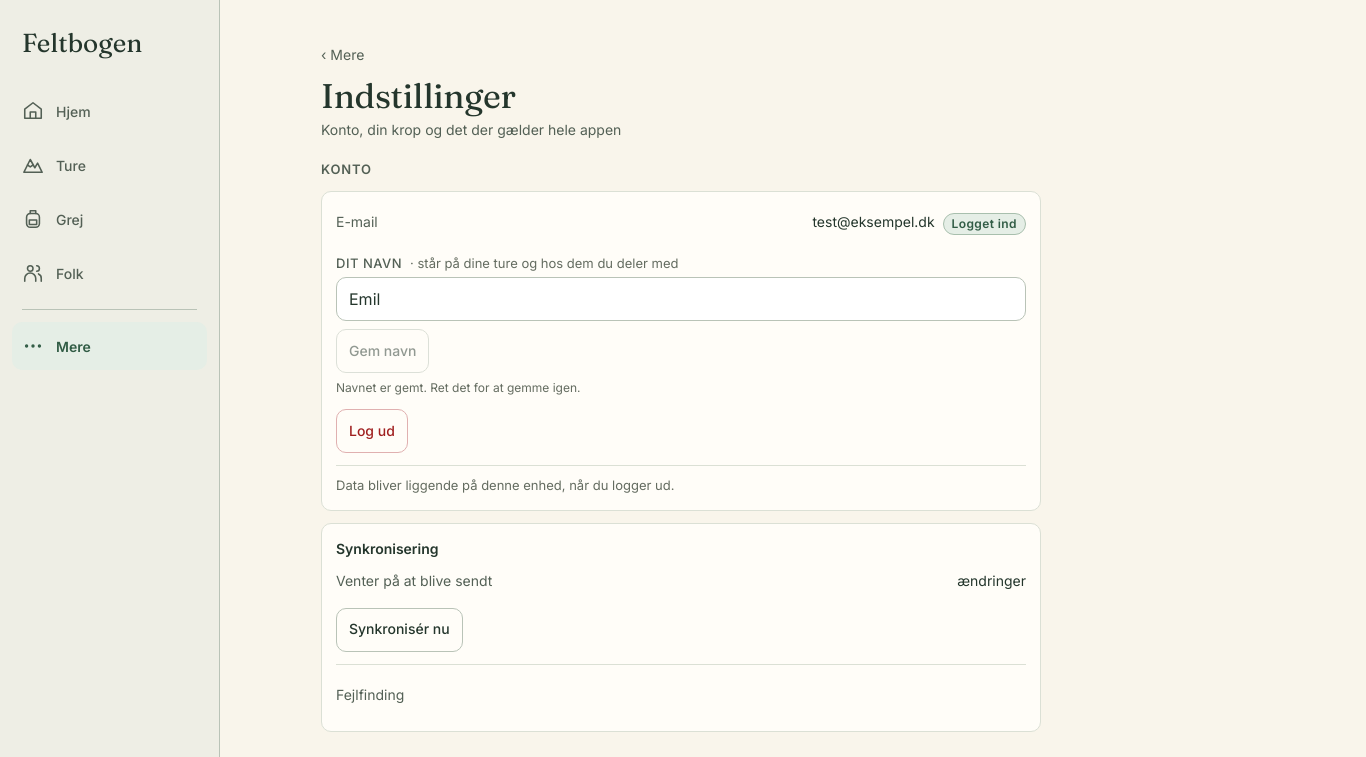
Test: navnet må ikke være tomt › slukker knappen igen, når navnet er sendt op
The width and height of the screenshot is (1366, 757).
Type "sen" into the field labelled "Dit navn· står på dine ture og hos dem du deler med" at [681, 299], box [336, 277, 1026, 321]
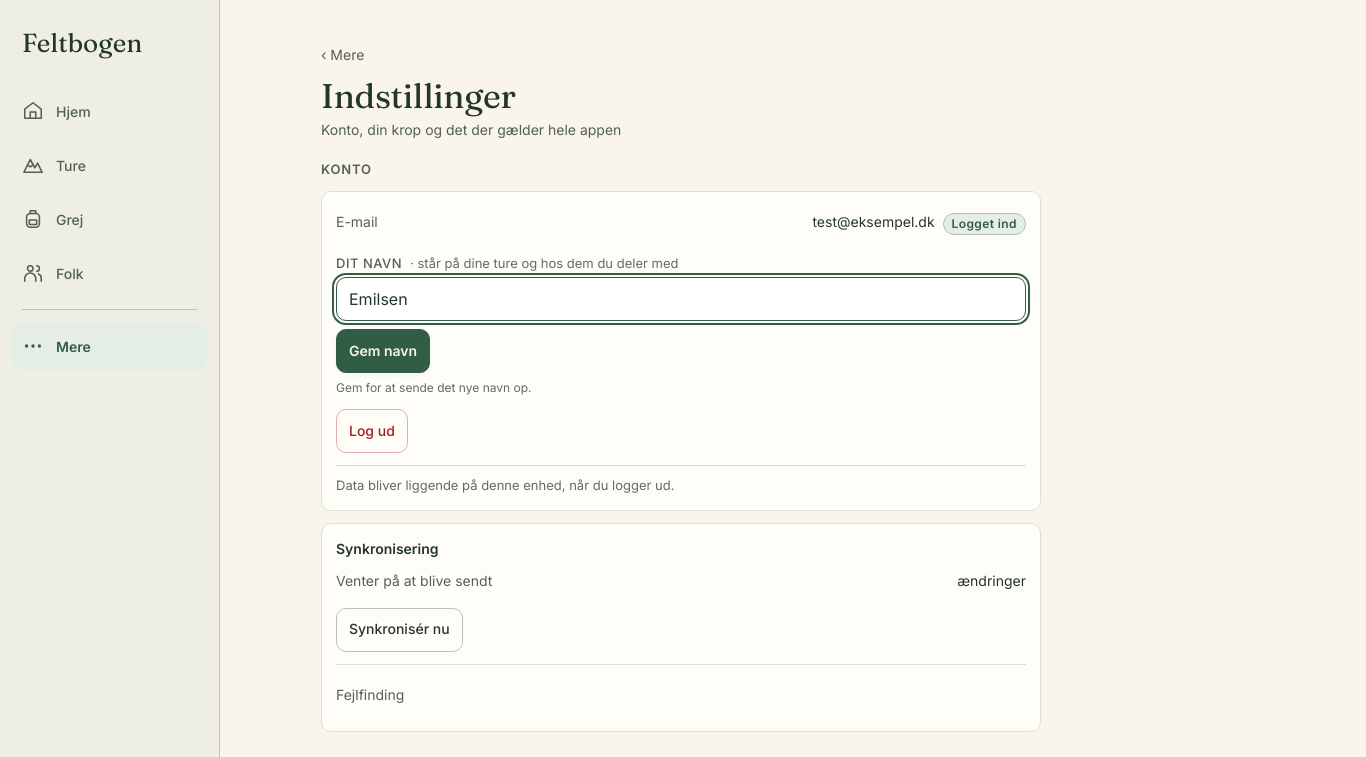
Click the button "Gem navn" at [383, 351], box [336, 329, 430, 373]
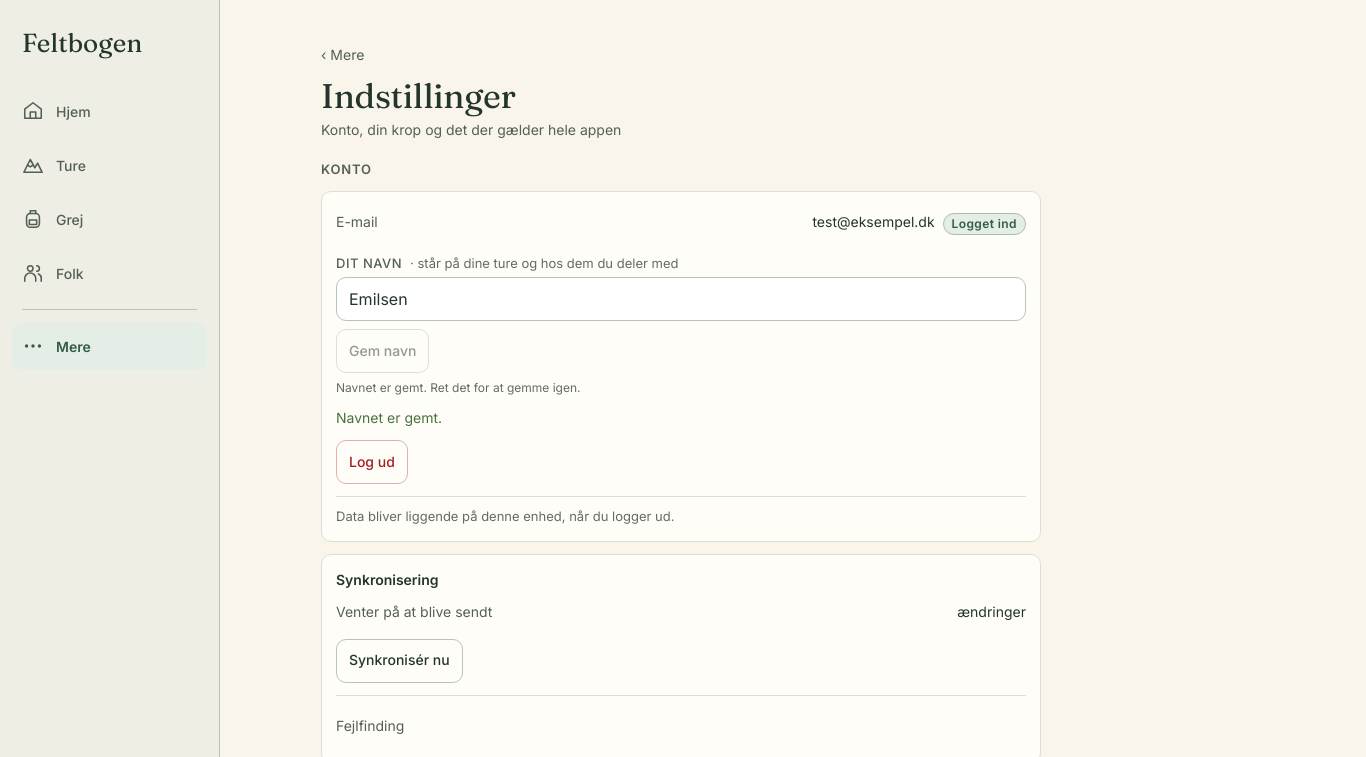
expect the text "Navnet er gemt." is shown: met, box [336, 409, 442, 426]
expect the button "Gem navn" is disabled: met, box [336, 329, 430, 373]
